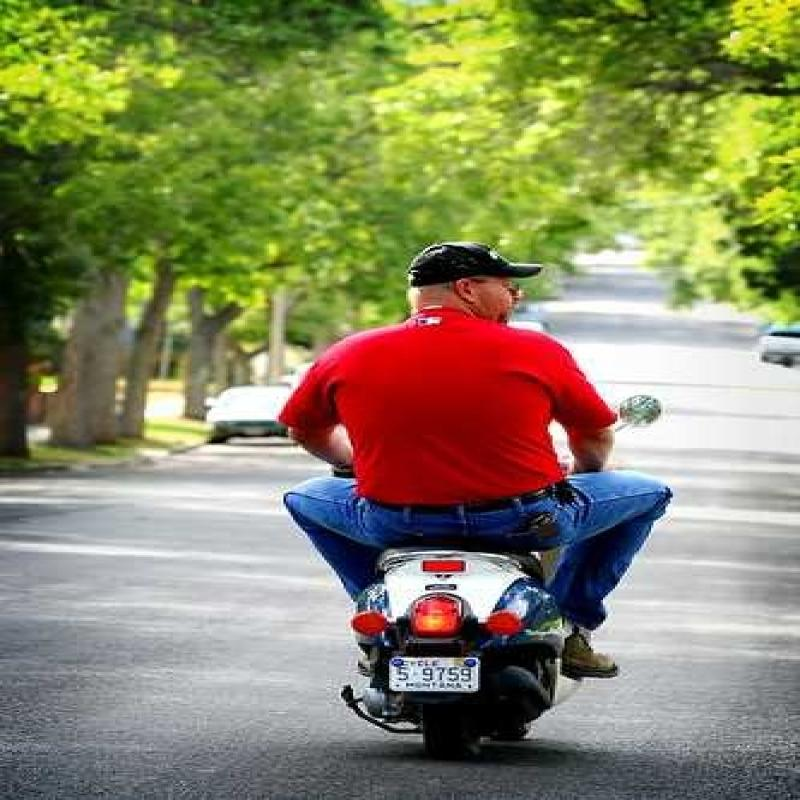bike: (341, 532, 573, 747)
